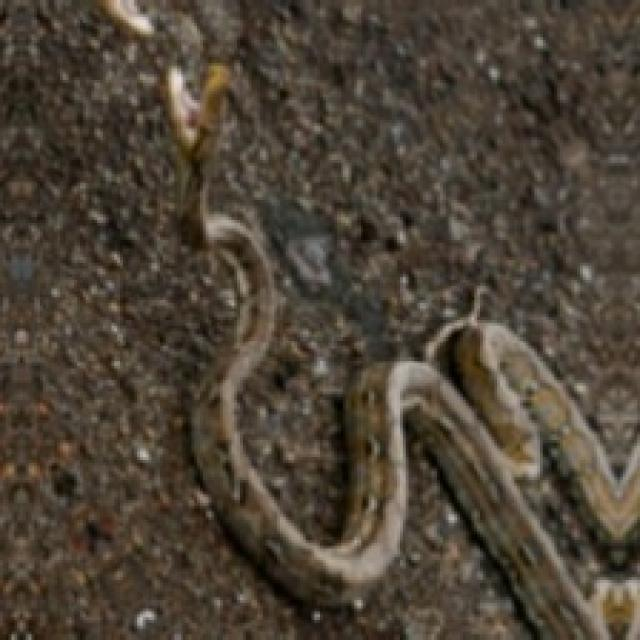reticulated python: (166, 69, 640, 640)
